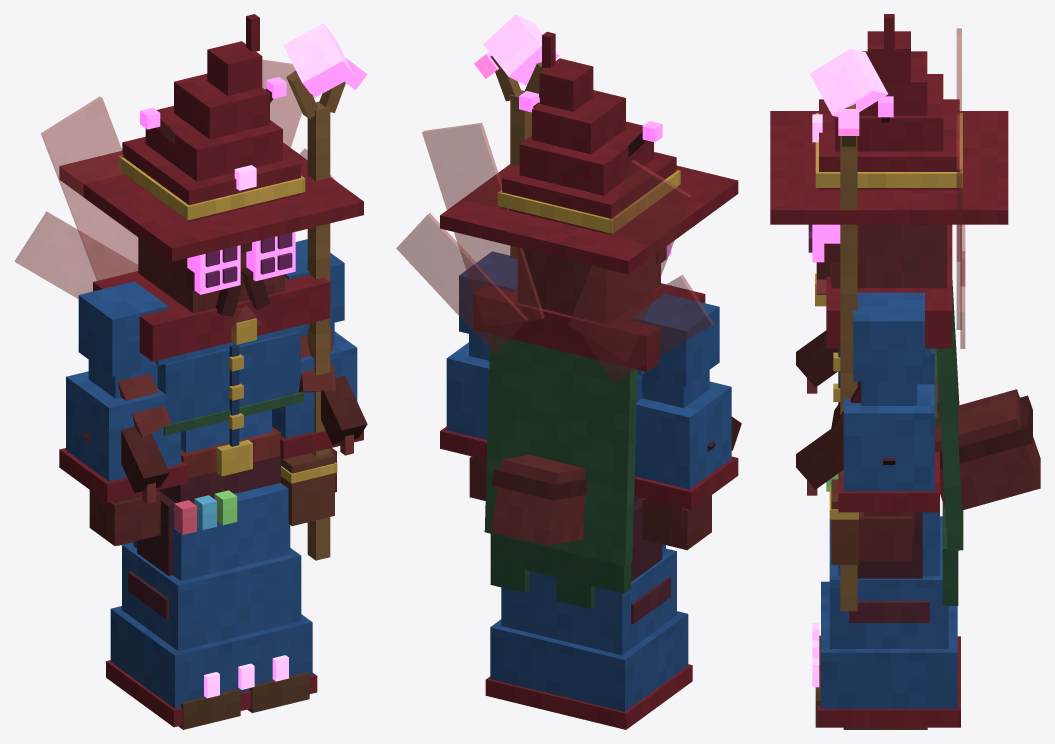
Rendered from insectoid_mage_v2.glb.
3 views of the same model, side by side, from view 1: azimuth 30°, elevation 25°; view 2: azimuth 150°, elevation 25°; view 3: azimuth 270°, elevation 25° (orthographic). The views are drawn at different scales.
Parts seen in each view (by area): view 1: Torso, Head, Root, ArmR, HandL, ArmL, LegR, LegL; view 2: Torso, Head, Root, ArmR, ArmL, HandL, LegR; view 3: Head, Torso, ArmL, Root, HandL, LegL.
Boxes of the visible parts, bbox=[...] form: Torso: bbox=[15, 59, 367, 545]; Head: bbox=[59, 14, 363, 333]; Root: bbox=[106, 483, 317, 727]; ArmR: bbox=[59, 281, 187, 545]; HandL: bbox=[283, 23, 367, 560]; ArmL: bbox=[272, 239, 363, 492]; LegR: bbox=[128, 490, 240, 729]; LegL: bbox=[237, 482, 309, 712]; Torso: bbox=[396, 123, 741, 609]; Head: bbox=[440, 31, 738, 323]; Root: bbox=[485, 544, 692, 729]; ArmR: bbox=[632, 293, 738, 550]; ArmL: bbox=[440, 251, 517, 500]; HandL: bbox=[474, 14, 559, 258]; LegR: bbox=[631, 498, 670, 623]; Head: bbox=[770, 14, 1008, 294]; Torso: bbox=[796, 28, 1040, 605]; ArmL: bbox=[838, 292, 939, 561]; Root: bbox=[812, 512, 960, 727]; HandL: bbox=[810, 49, 887, 611]; LegL: bbox=[815, 512, 929, 729].
Bounding box in the file's own units: 1.12 × 2.21 × 0.7727.
Materials: 39 (39 with a texture image).
